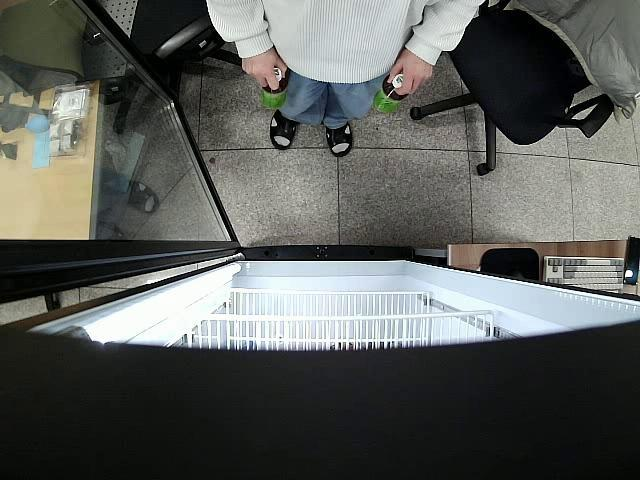19_17cha: (260, 68, 289, 114), (375, 71, 406, 114)
